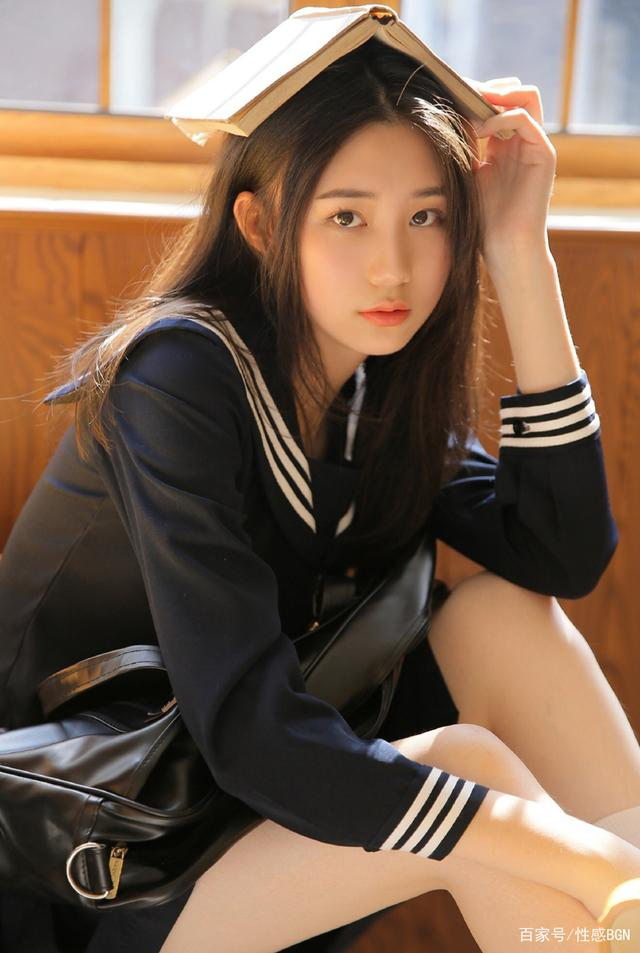person: (147, 48, 628, 704)
